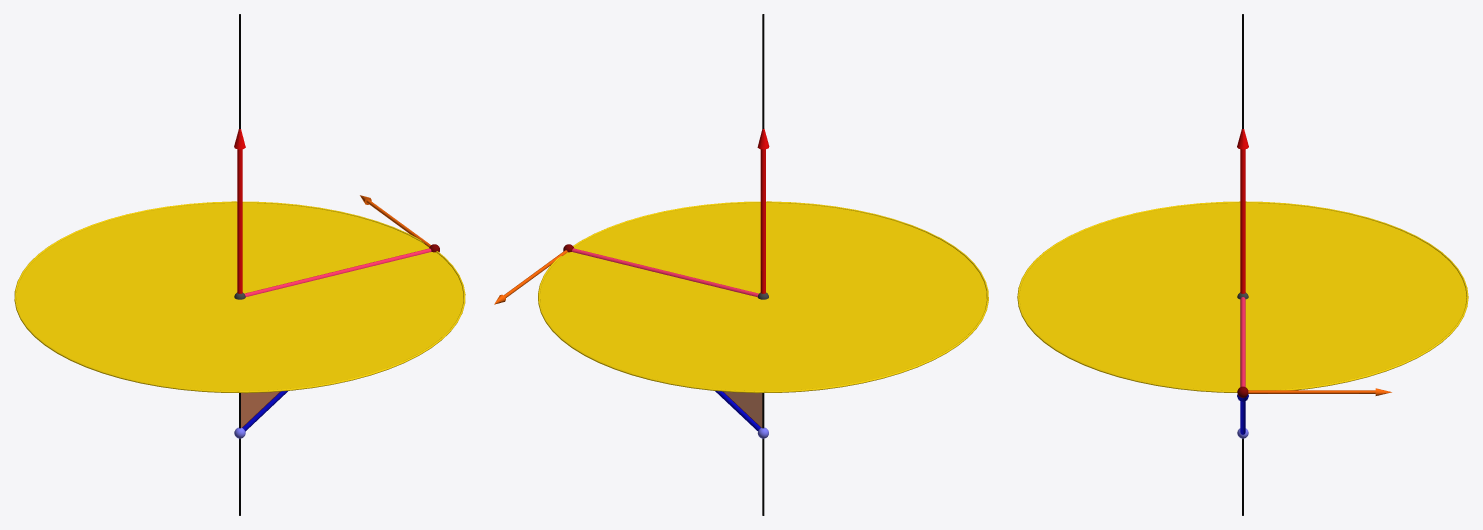
The model's file is rot.dae.
3 renders of one model, left to right at view 1: azimuth 30°, elevation 25°; view 2: azimuth 150°, elevation 25°; view 3: azimuth 270°, elevation 25°, orthographic.
Visible parts, largest first — view 1: c_2, c_3, c, w, g, t1; view 2: c_2, c_3, c, w, g, t1, f; view 3: c_2, c_3, c, w, v, g.
Boxes of the visible parts, bbox=[...] form: c_2: bbox=[16, 203, 463, 391]; c_3: bbox=[17, 203, 462, 390]; c: bbox=[14, 201, 465, 393]; w: bbox=[234, 129, 245, 293]; g: bbox=[244, 248, 431, 296]; t1: bbox=[241, 391, 280, 427]; c_2: bbox=[540, 203, 986, 391]; c_3: bbox=[540, 203, 986, 390]; c: bbox=[538, 201, 988, 393]; w: bbox=[757, 129, 769, 293]; g: bbox=[572, 248, 758, 296]; t1: bbox=[723, 391, 762, 427]; f: bbox=[762, 14, 764, 515]; c_2: bbox=[1019, 203, 1466, 390]; c_3: bbox=[1020, 203, 1465, 390]; c: bbox=[1017, 201, 1468, 392]; w: bbox=[1237, 129, 1248, 293]; v: bbox=[1248, 388, 1391, 395]; g: bbox=[1240, 297, 1245, 386].
Size of the model in its own units: 6.09 by 6.03 by 7.39.
